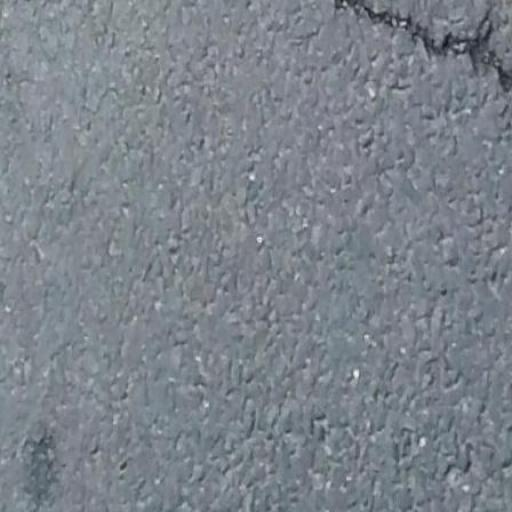spalling: (337, 2, 510, 94)
